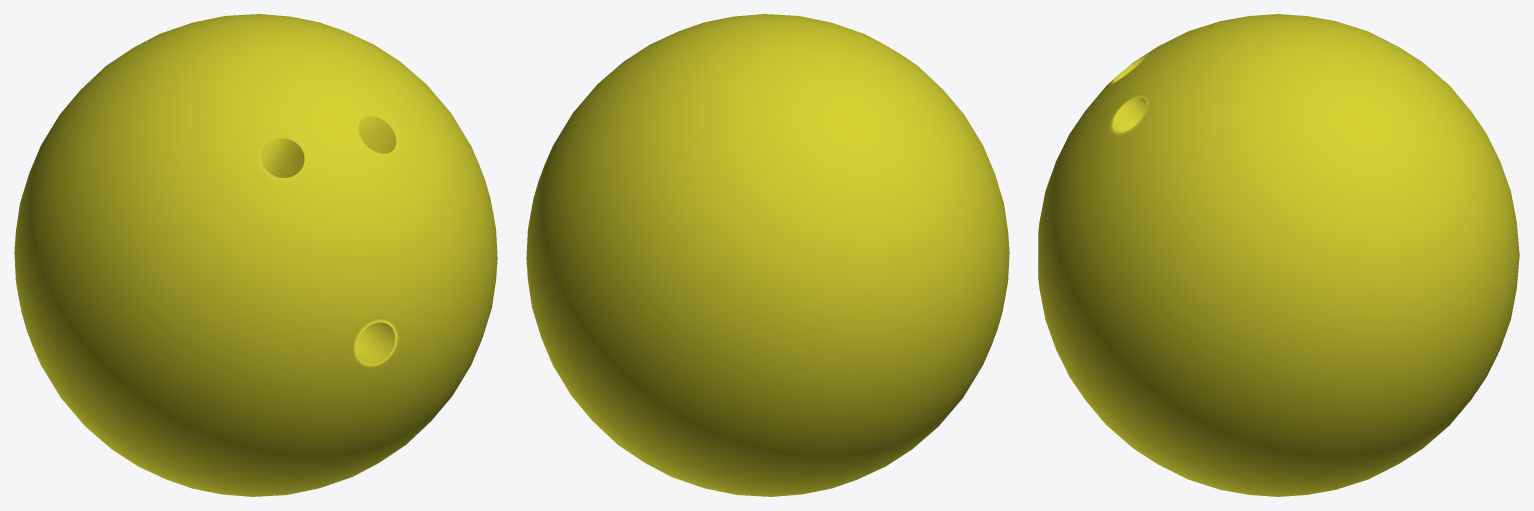
The model's file is bowling_ball.fbx.
3 renders of one model, left to right at view 1: azimuth 30°, elevation 25°; view 2: azimuth 150°, elevation 25°; view 3: azimuth 270°, elevation 25°, orthographic.
Parts seen in each view (by area): view 1: Ball; view 2: Ball; view 3: Ball.
Boxes of the visible parts, box(x1,y1,x2,y2) form: Ball: box(14, 14, 497, 496); Ball: box(526, 14, 1009, 496); Ball: box(1038, 14, 1519, 496).
Bounding box in the file's own units: 216 × 216 × 215.
